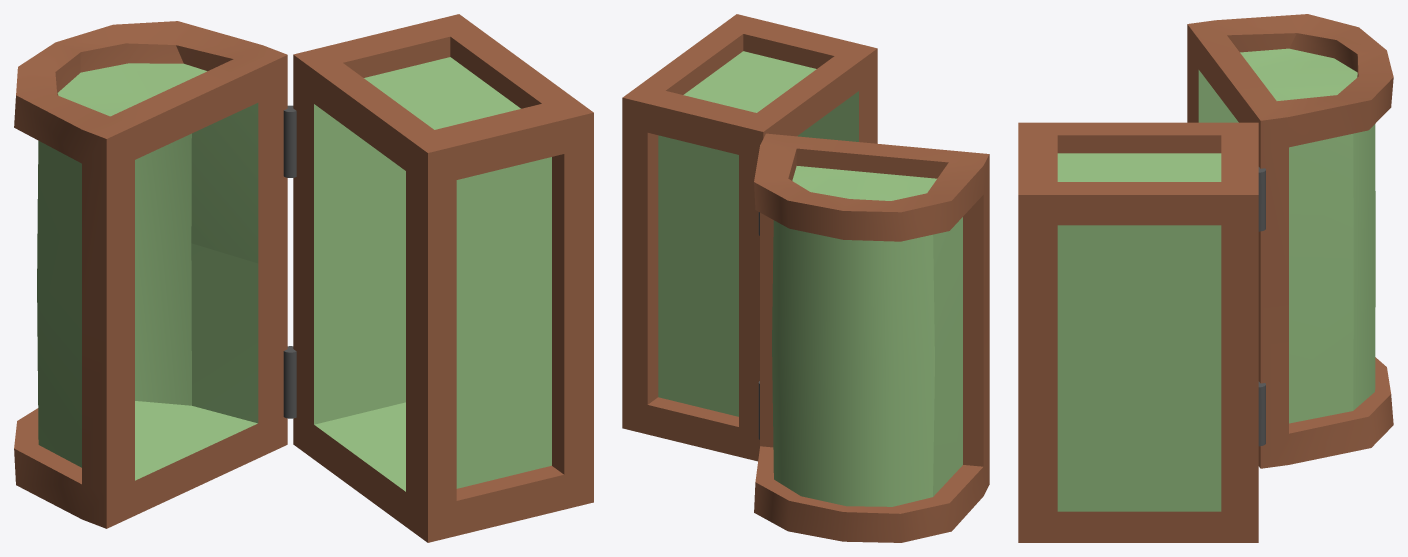
File: Toybox_Simple_A.fbx
The picture shows the model from 3 angles, left to right: view 1: azimuth 30°, elevation 25°; view 2: azimuth 150°, elevation 25°; view 3: azimuth 270°, elevation 25°; orthographic projection. The views are drawn at different scales.
Visible parts, largest first — view 1: polySurface4, polySurface3; view 2: polySurface3, polySurface4; view 3: polySurface4, polySurface3.
Boxes of the visible parts, bbox=[...] form: polySurface4: bbox=[293, 14, 593, 542]; polySurface3: bbox=[14, 21, 296, 528]; polySurface3: bbox=[754, 133, 989, 542]; polySurface4: bbox=[622, 14, 877, 461]; polySurface4: bbox=[1018, 122, 1258, 542]; polySurface3: bbox=[1187, 14, 1393, 468].
Size of the model in its own units: 8.56 by 7.68 by 7.5.
